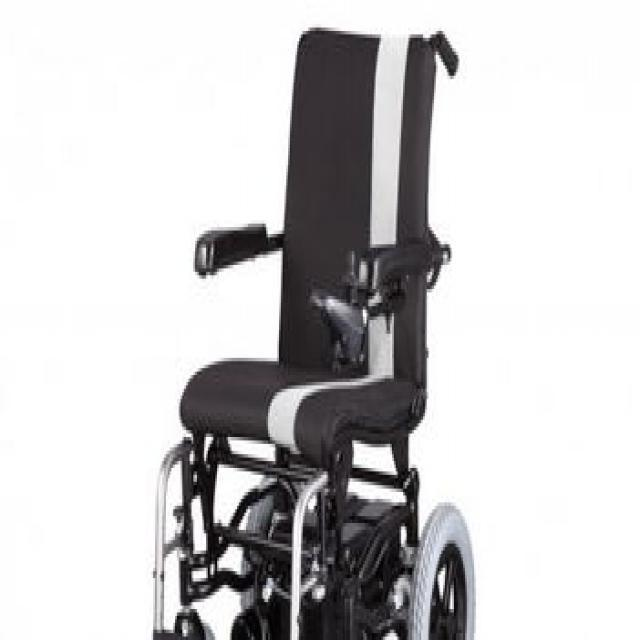wheelchair: (146, 17, 476, 637)
